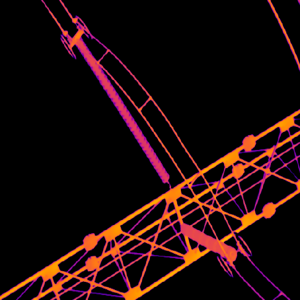insulator: (75, 33, 170, 185), (179, 219, 236, 261)
